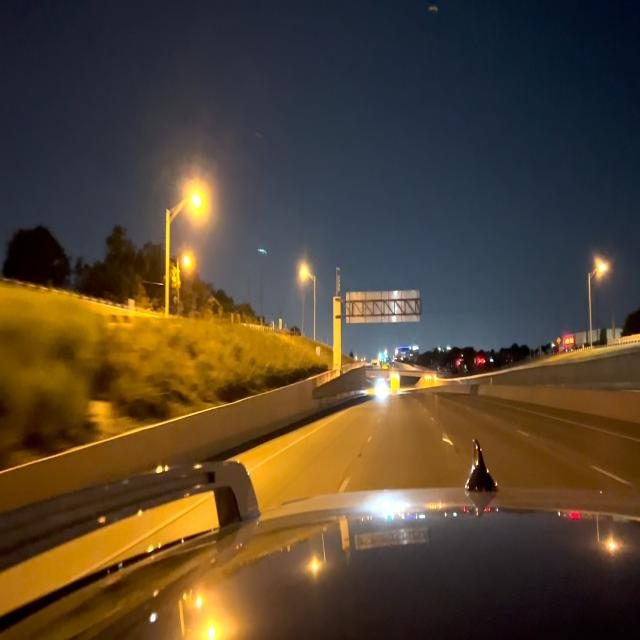back-of-sign: (346, 291, 420, 321)
